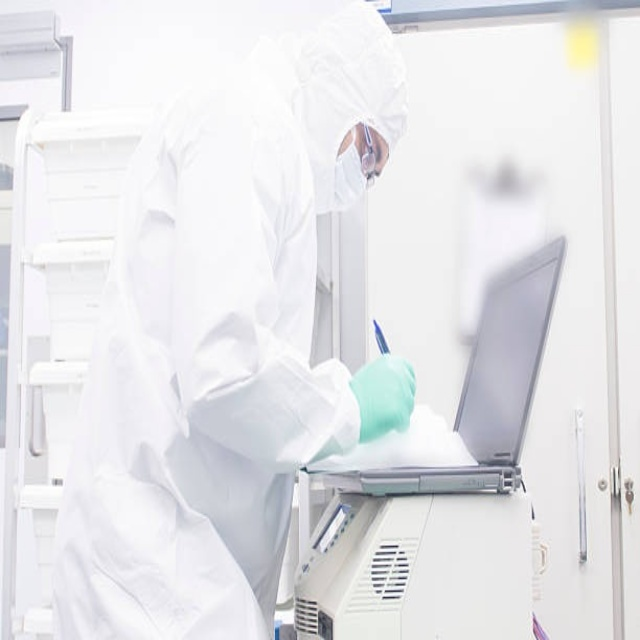Gafas: (359, 123, 377, 189)
Guantes: (345, 347, 418, 443)
Mascara: (332, 123, 374, 209)
